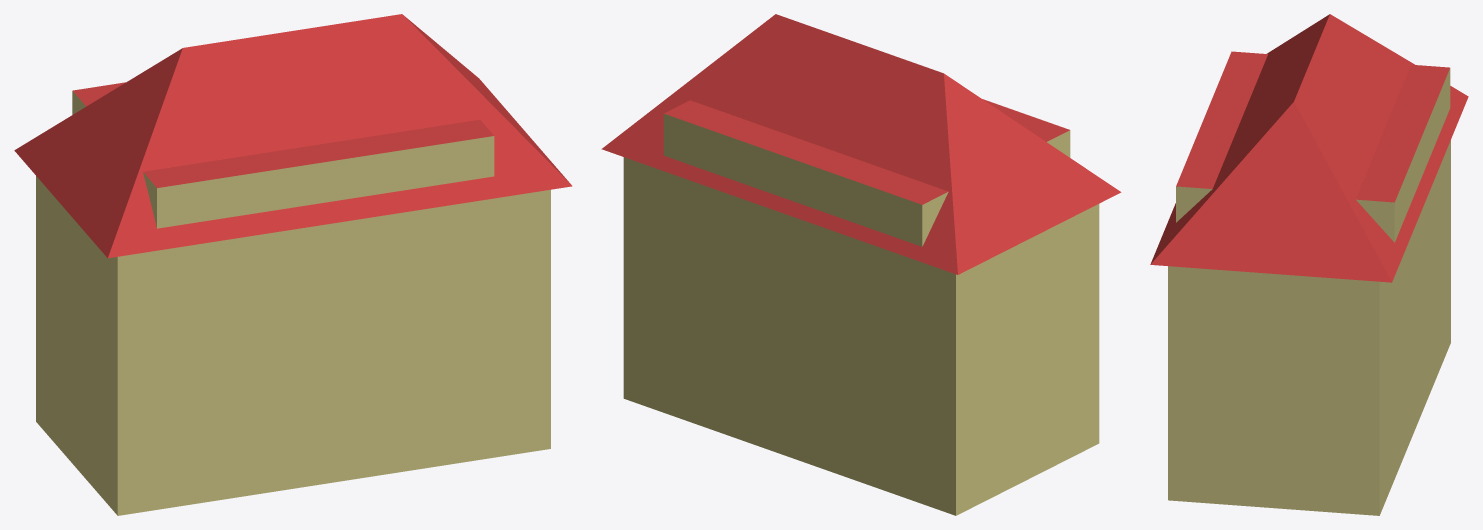
3 renders of one model, left to right at view 1: azimuth 30°, elevation 25°; view 2: azimuth 150°, elevation 25°; view 3: azimuth 270°, elevation 25°, orthographic. The views are drawn at different scales.
Parts seen in each view (by area): view 1: group_7, group_3, group_5, group_6, group_4; view 2: group_7, group_3, group_5, group_4, group_6; view 3: group_7, group_3, group_4, group_5, group_6.
Boxes of the visible parts, x1,y1,x2,y2 form: group_7: [36, 176, 550, 515]; group_3: [14, 14, 571, 257]; group_5: [72, 91, 494, 228]; group_6: [16, 75, 572, 258]; group_4: [73, 82, 493, 187]; group_7: [623, 157, 1099, 515]; group_3: [603, 14, 1121, 274]; group_5: [663, 114, 1070, 246]; group_4: [664, 99, 1069, 204]; group_6: [601, 132, 1118, 274]; group_7: [1168, 140, 1450, 515]; group_3: [1150, 14, 1468, 282]; group_4: [1176, 51, 1449, 202]; group_5: [1176, 68, 1450, 242]; group_6: [1150, 183, 1419, 281].
Size of the model in its own units: 23.76 by 15.68 by 19.77.
